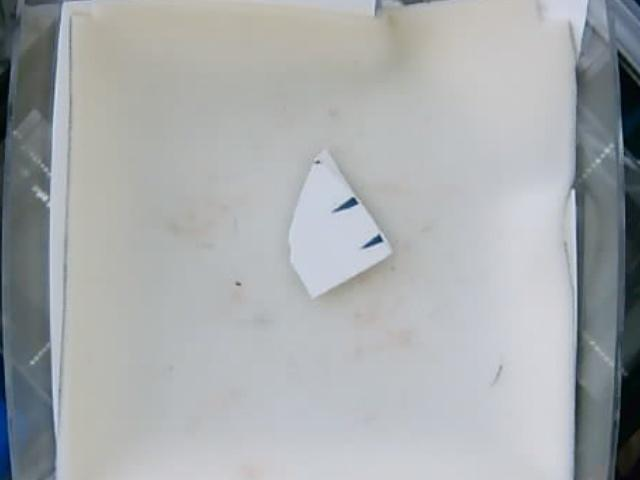China: (287, 149, 393, 302)
